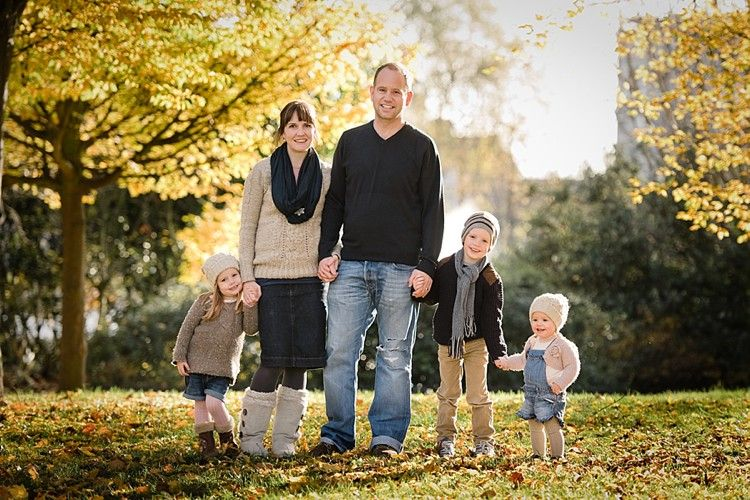Person: (341, 53, 430, 446), (245, 109, 341, 431), (159, 253, 252, 453), (515, 291, 589, 465)
